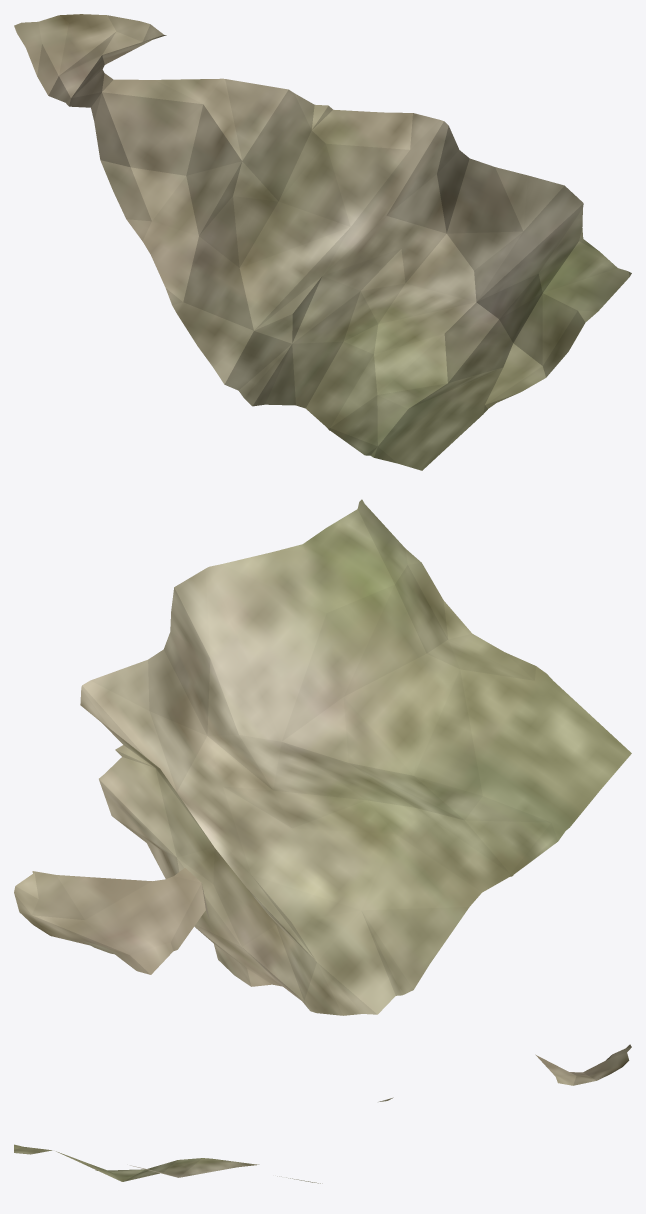
The picture shows the model from 3 angles, top to bottom: view 1: azimuth 30°, elevation 25°; view 2: azimuth 150°, elevation 25°; view 3: azimuth 270°, elevation 25°; orthographic projection. The views are drawn at different scales.
Size of the model in its own units: 1.01 by 0.8021 by 2.89.
Materials: 1 (1 with a texture image).
